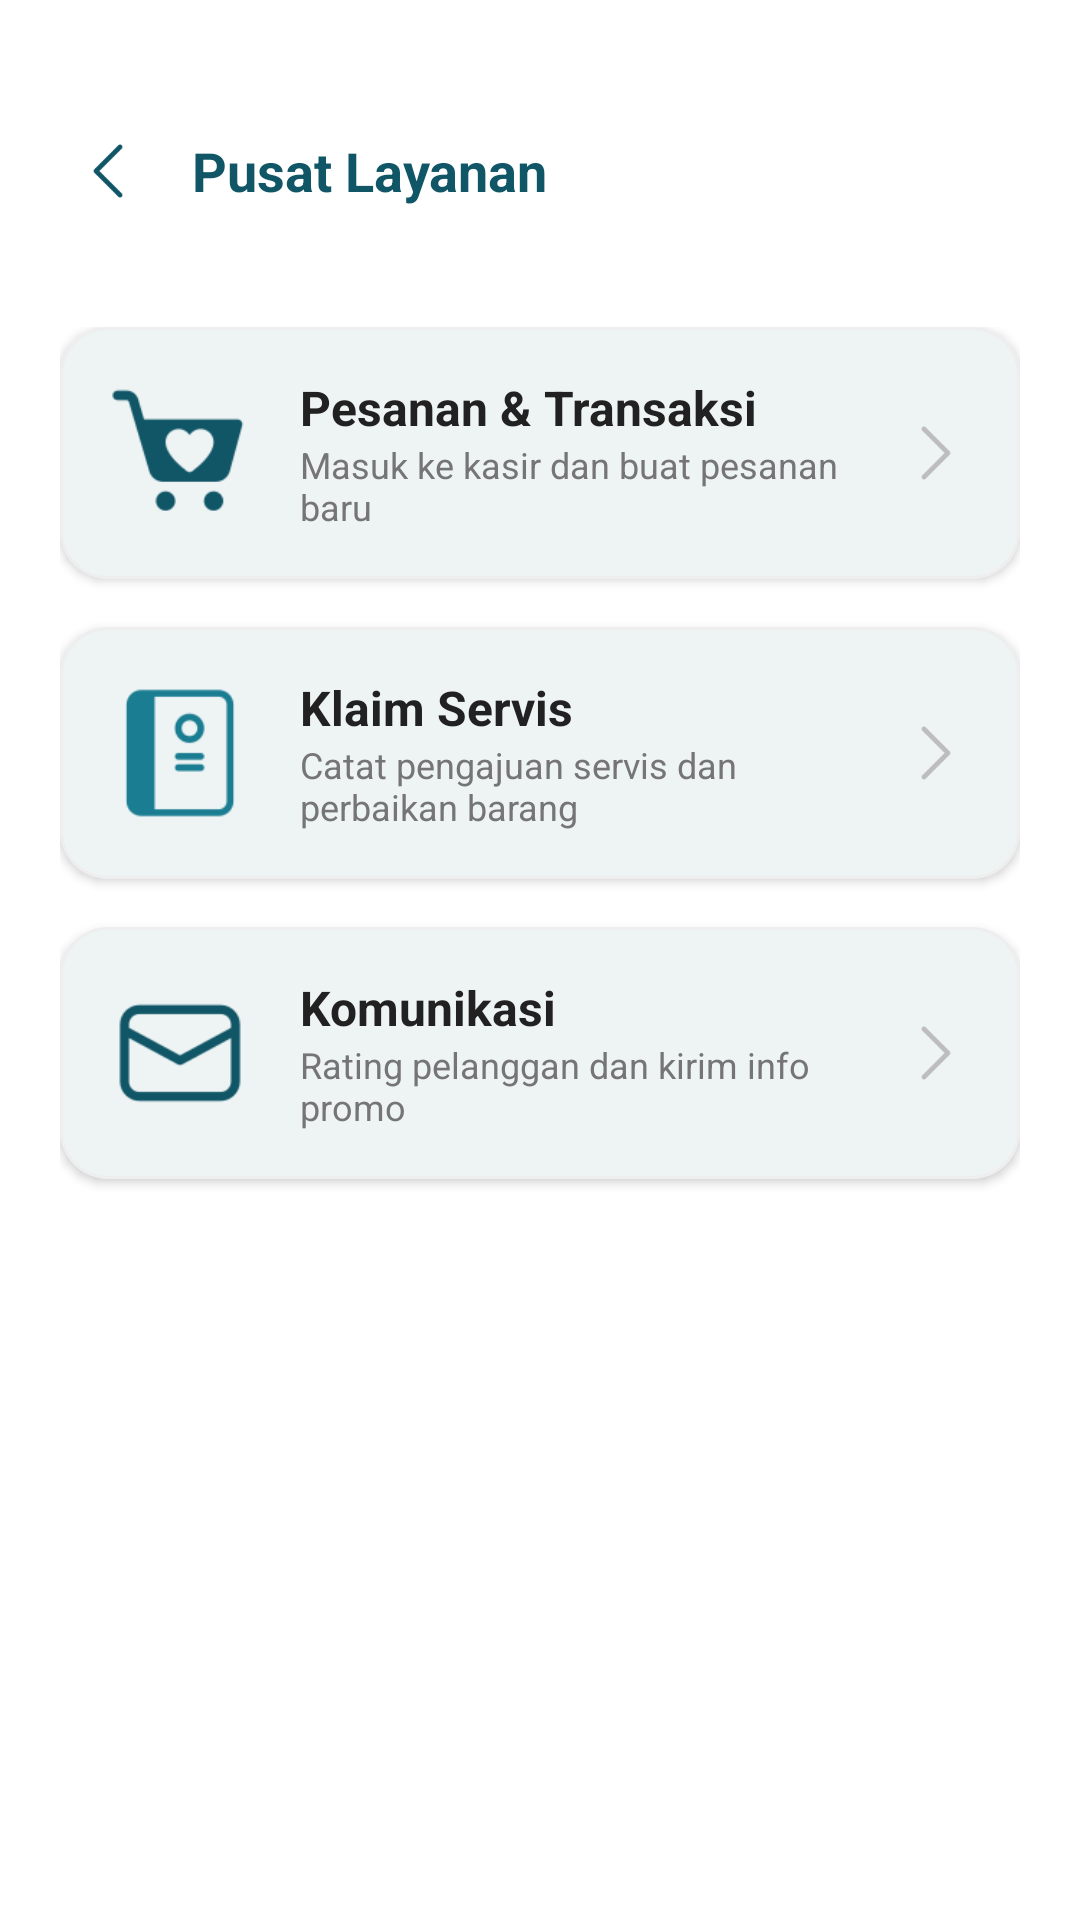

Icons on this 1080*1920 Android screen, each with the point to tap as point (x, y):
email: point (180, 1053)
